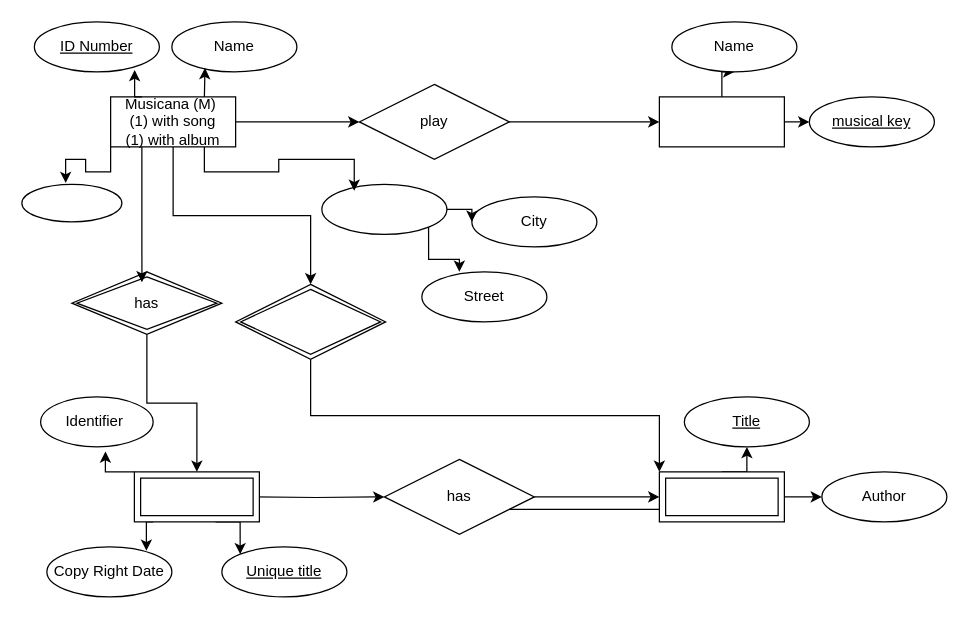
The diagram is 969 pixels wide and 619 high, and some of its shapes have lost their labels. The box of each missing label's shape, as (x1, y1, x2, y2) in pixels:
Address: (321, 183, 447, 234)
album (1) (M) Musicana: (133, 471, 259, 522)
instrument (M): (658, 96, 784, 147)
Peform: (234, 283, 386, 359)
Phone Number: (21, 183, 122, 222)
song (M): (658, 471, 784, 522)
